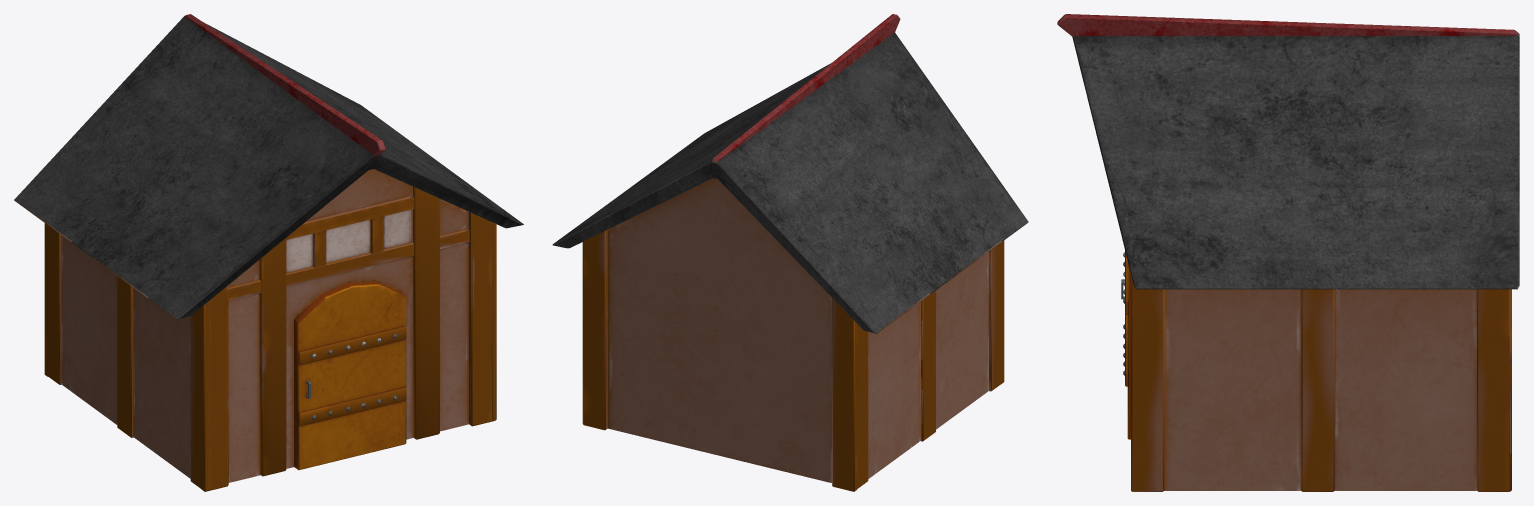
File: barn stylized.fbx
The picture shows the model from 3 angles, left to right: view 1: azimuth 30°, elevation 25°; view 2: azimuth 150°, elevation 25°; view 3: azimuth 270°, elevation 25°; orthographic projection. The views are drawn at different scales.
Parts seen in each view (by area): view 1: barn; view 2: barn; view 3: barn.
Part boxes in pixels (x1=…): barn: x1=14, y1=14, x2=523, y2=491; barn: x1=552, y1=14, x2=1028, y2=491; barn: x1=1057, y1=14, x2=1519, y2=491.
Bounding box in the file's own units: 136 × 126 × 134.
1 material, 1 textured.
